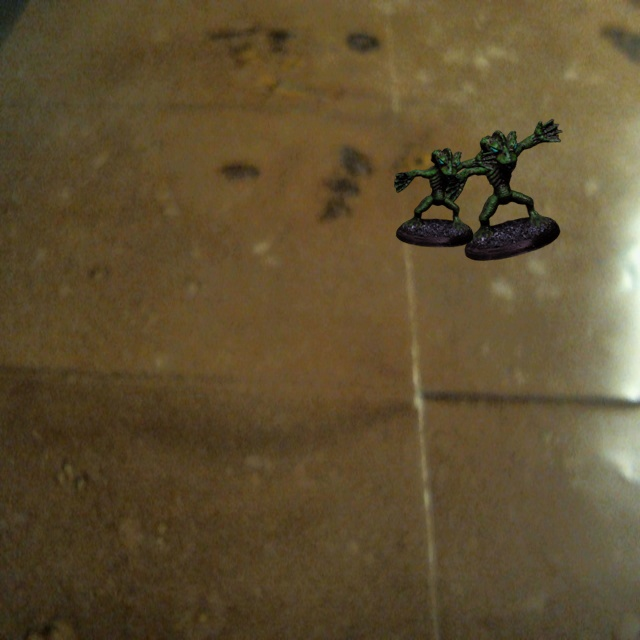pieza_juego: (443, 119, 562, 260), (394, 148, 496, 247)
